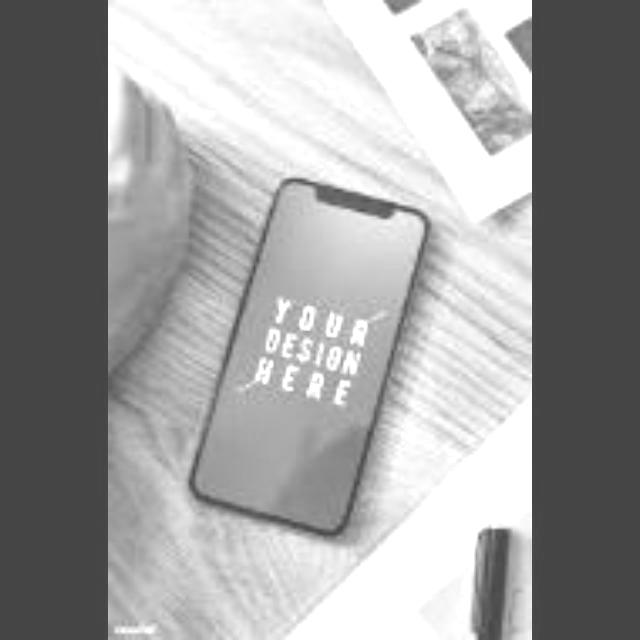fake: (168, 181, 424, 539)
